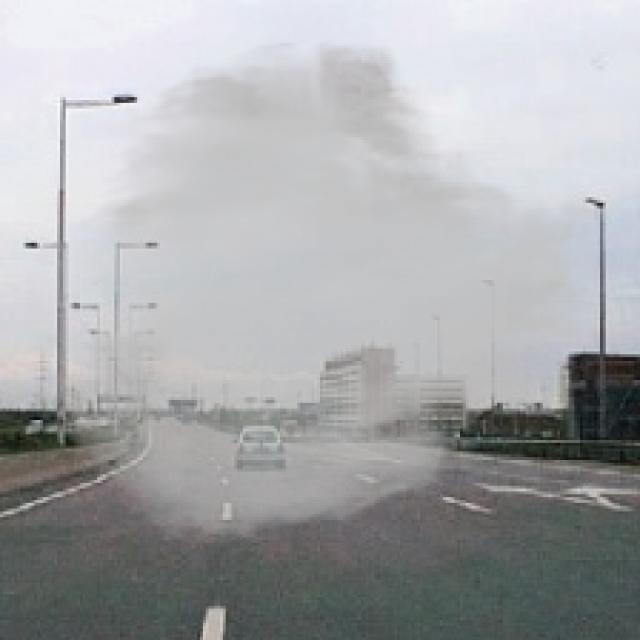Smoke: (54, 34, 609, 549)
